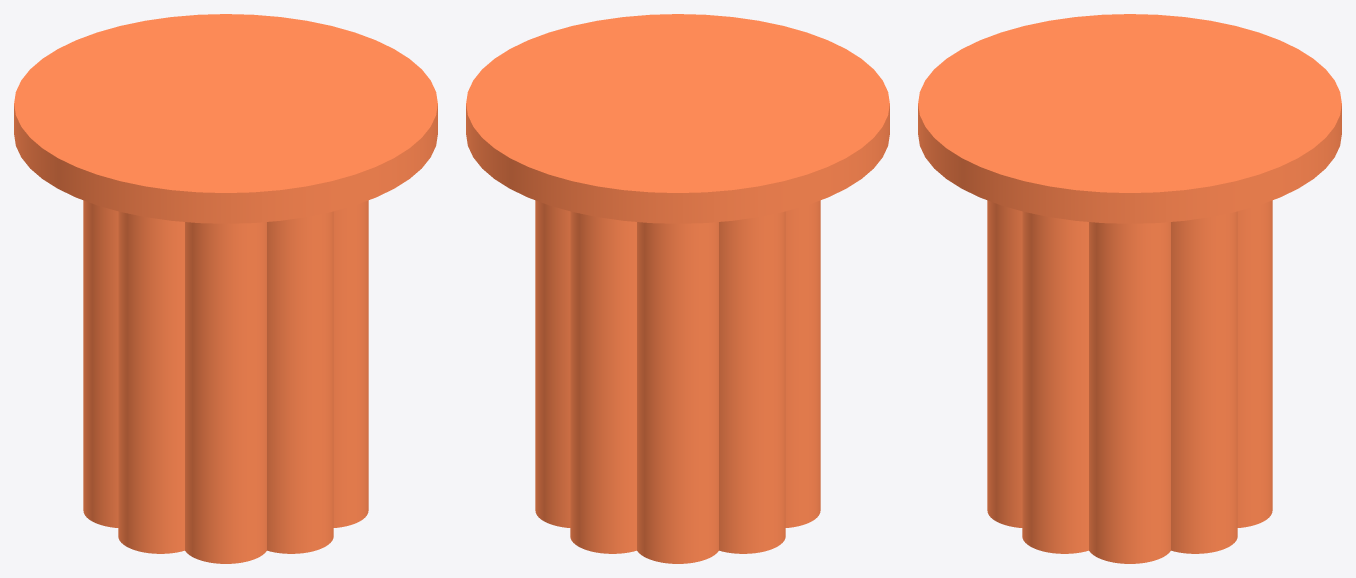
The model's file is ref06_14.glb.
The picture shows the model from 3 angles, left to right: view 1: azimuth 30°, elevation 25°; view 2: azimuth 150°, elevation 25°; view 3: azimuth 270°, elevation 25°; orthographic projection.
Visible parts, largest first — view 1: ref06_14; view 2: ref06_14; view 3: ref06_14.
Part boxes in pixels (x1,y1,x2,y2): ref06_14: [14, 14, 437, 563]; ref06_14: [466, 14, 889, 563]; ref06_14: [918, 14, 1341, 563].
Bounding box in the file's own units: 0.5 × 0.52 × 0.5.
